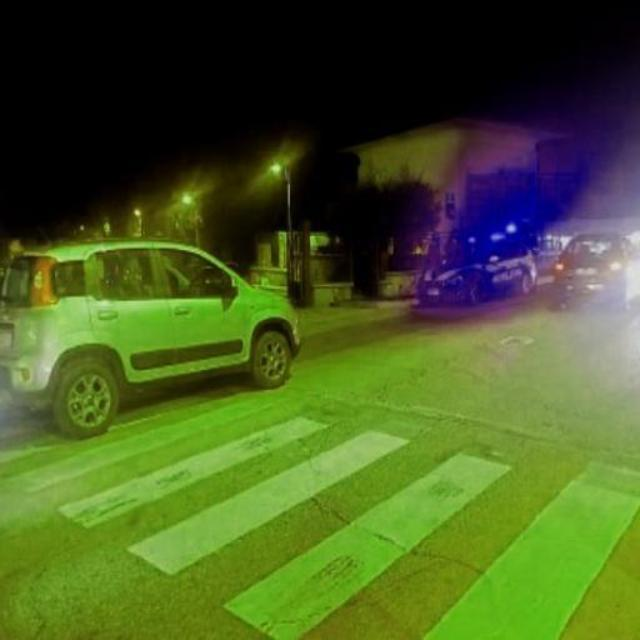sidewalk: (7, 374, 640, 640)
